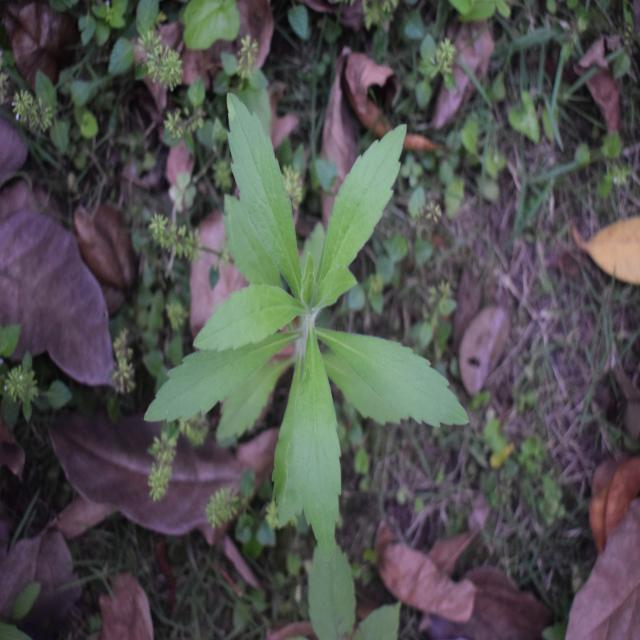horseweed: (184, 137, 464, 518)
